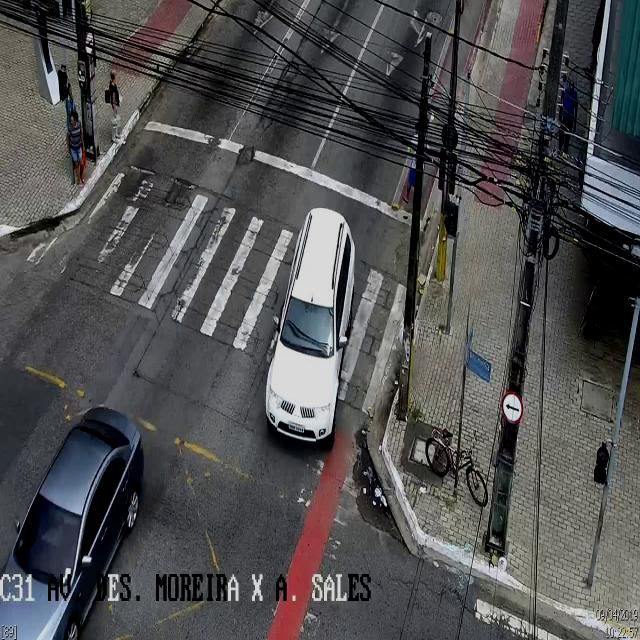Car: (265, 208, 355, 442)
